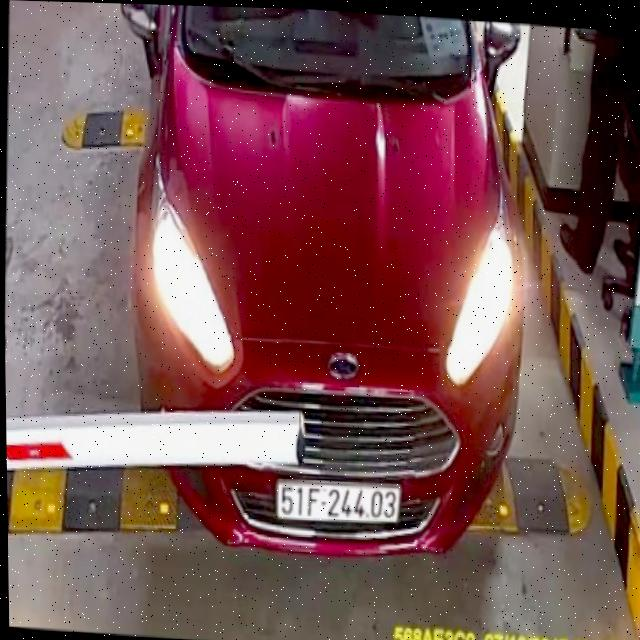car: (105, 3, 537, 572)
plate: (269, 474, 406, 529)
